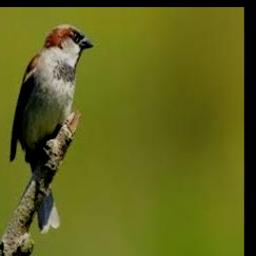Sparrow: (8, 24, 93, 233)
